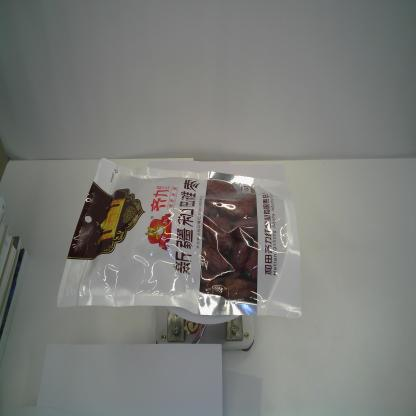Dried Food: (53, 156, 304, 324)
